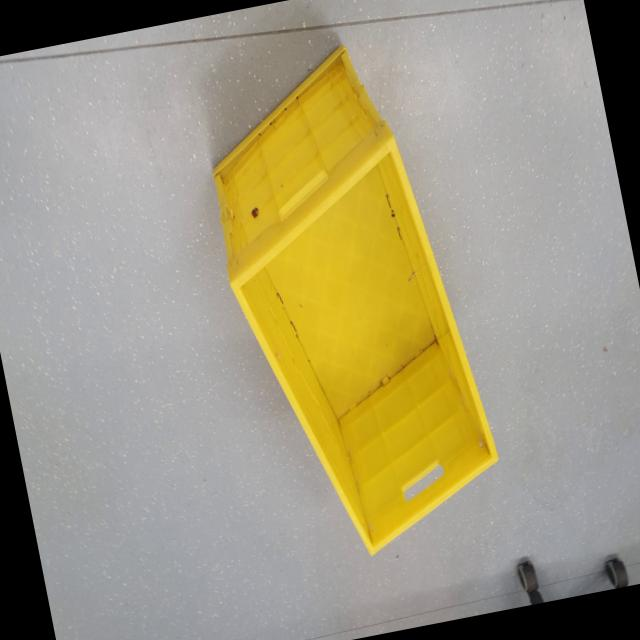box: (181, 23, 518, 586)
